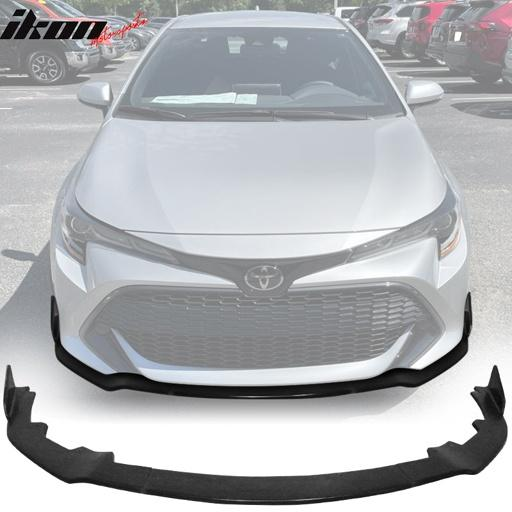car: (18, 0, 81, 19), (502, 31, 511, 83), (144, 18, 172, 28), (332, 6, 355, 18), (109, 16, 131, 25), (108, 22, 121, 29), (435, 58, 442, 64), (41, 19, 44, 22)
hatchback: (51, 10, 470, 394), (425, 0, 467, 64), (124, 22, 156, 50)
suv: (444, 0, 511, 83), (0, 38, 99, 83), (365, 2, 422, 57), (403, 0, 453, 60), (348, 3, 377, 37)
truck: (83, 35, 124, 67)
